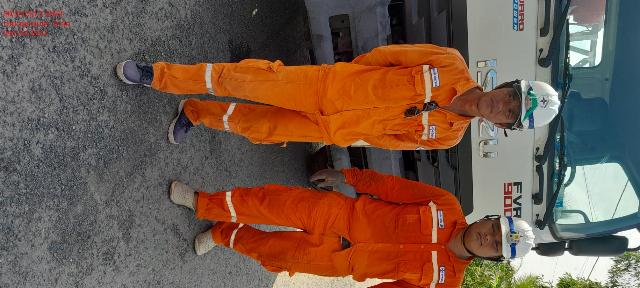gloves: (305, 162, 347, 191)
helmet: (511, 69, 563, 150), (492, 201, 537, 276)
shoes: (165, 177, 209, 221), (177, 219, 224, 257), (167, 99, 199, 154), (116, 56, 161, 89)
